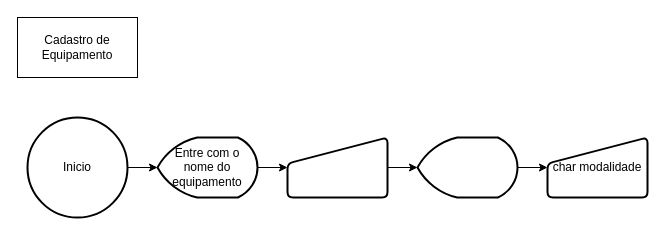
The diagram is 666 pixels wide and 236 high, and some of its shapes have lost their labels. The centre of each missing label's shape, as x and y in pixels:
char nomeEquipamento: (x=337, y=167)
Entre com a modalidade onde sera usado: (x=467, y=167)
